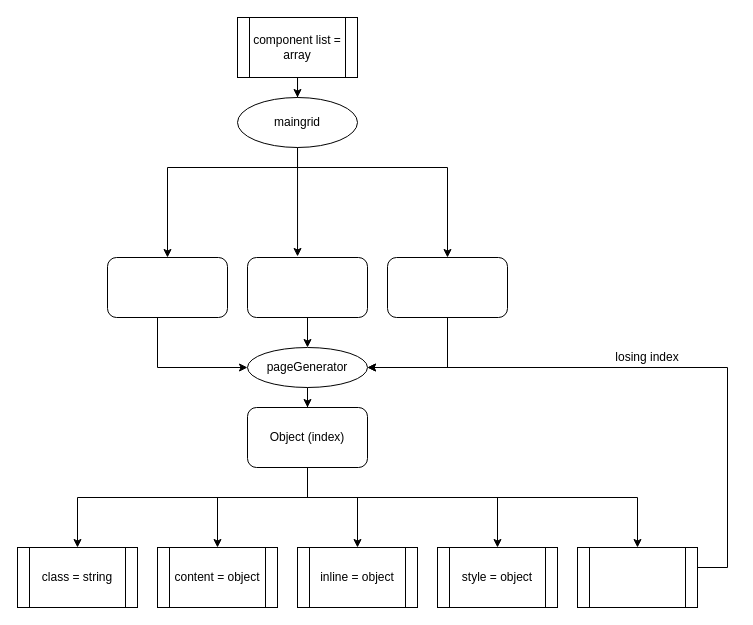
The diagram is 753 pixels wide and 625 high, and some of its shapes have lost their labels. Each missing label, with the box of its shape:
Array (mainindex 3): (386, 256, 508, 318)
Array 1 (mainindex 1): (106, 256, 228, 318)
Array 2 (mainIndex 2): (246, 256, 368, 318)
options = array: (576, 546, 698, 608)
